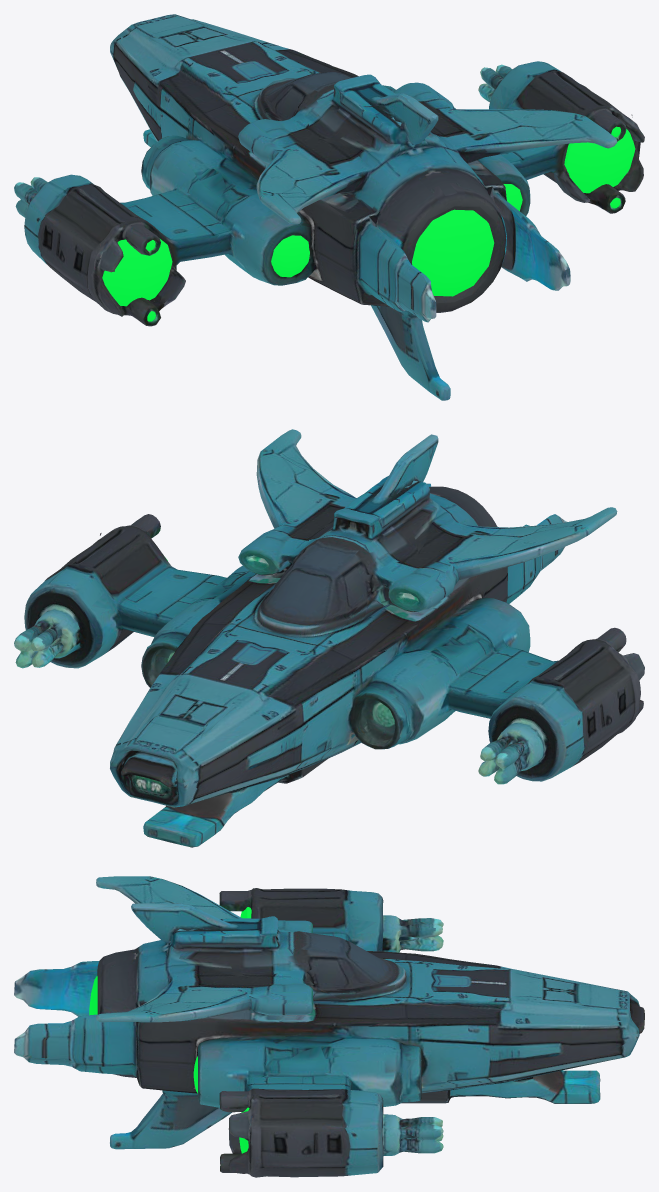
File: Ship_Mirror_Low_AI.glb
3 renders of one model, top to bottom at view 1: azimuth 30°, elevation 25°; view 2: azimuth 150°, elevation 25°; view 3: azimuth 270°, elevation 25°, orthographic. The views are drawn at different scales.
Parts seen in each view (by area): view 1: Ship_AI; view 2: Ship_AI; view 3: Ship_AI.
Part boxes in pixels (<box>): Ship_AI: <box>14,14,644,400</box>; Ship_AI: <box>14,429,644,847</box>; Ship_AI: <box>14,876,644,1177</box>.
Size of the model in its own units: 0.8854 by 0.4264 by 0.9982.
2 materials, 1 textured.
